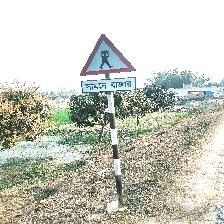Market-in-front: (80, 35, 137, 94)
